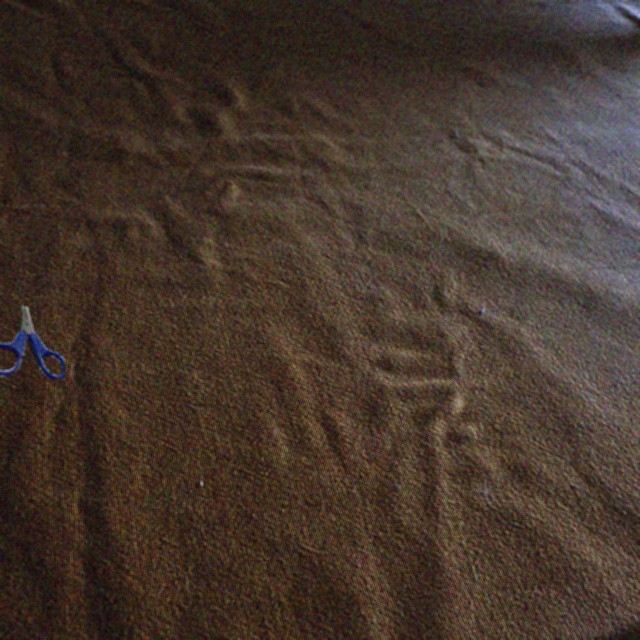scissors: (0, 305, 65, 379)
